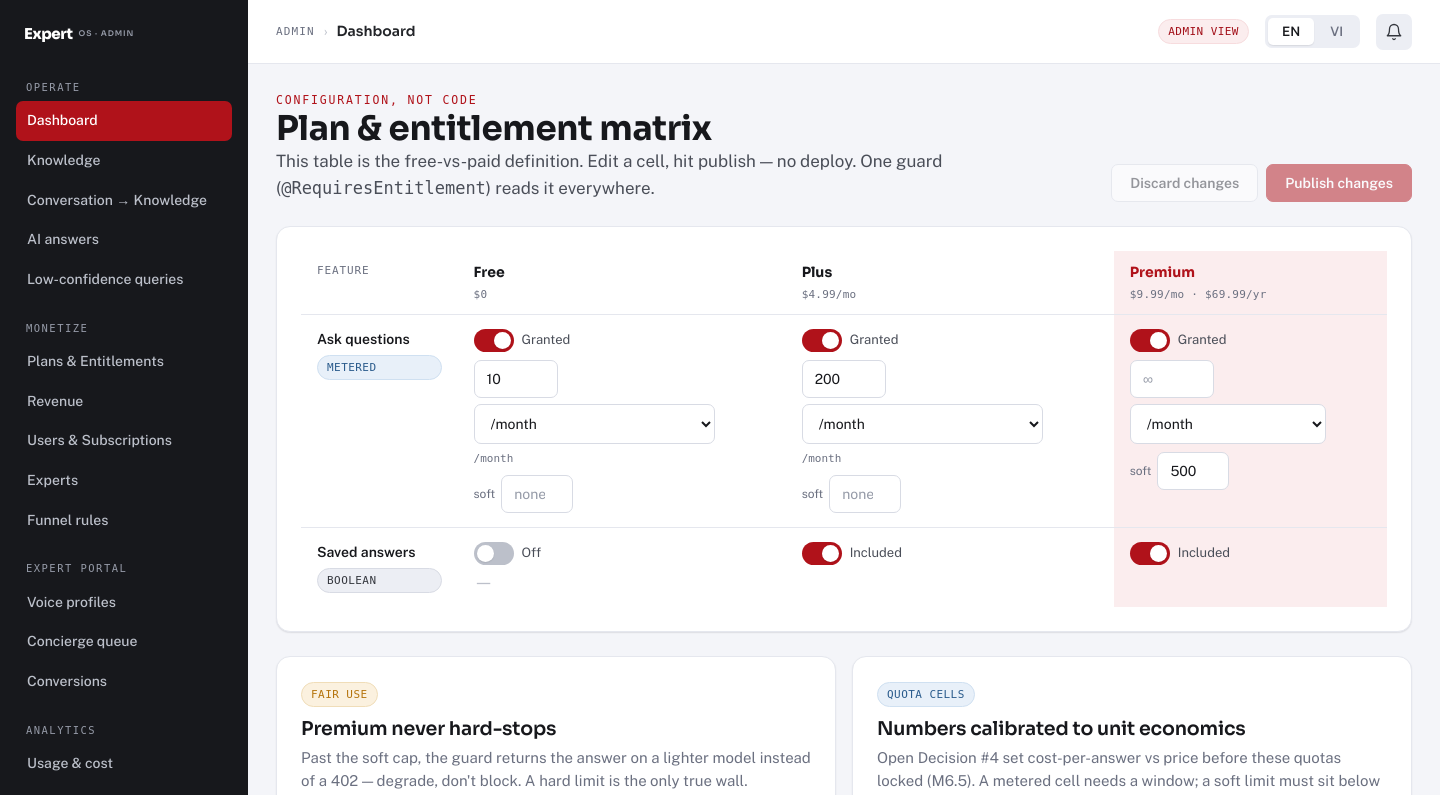
it: EntitlementsPage — staged publish › marks a toggled boolean cell dirty (Unsaved badge + Publish 1 change)
The width and height of the screenshot is (1440, 795).
Expected: the text "Ask questions" is shown, [317,331,410,347]
Click the checkbox labelled "Off": (507, 554) [474,542,541,565]
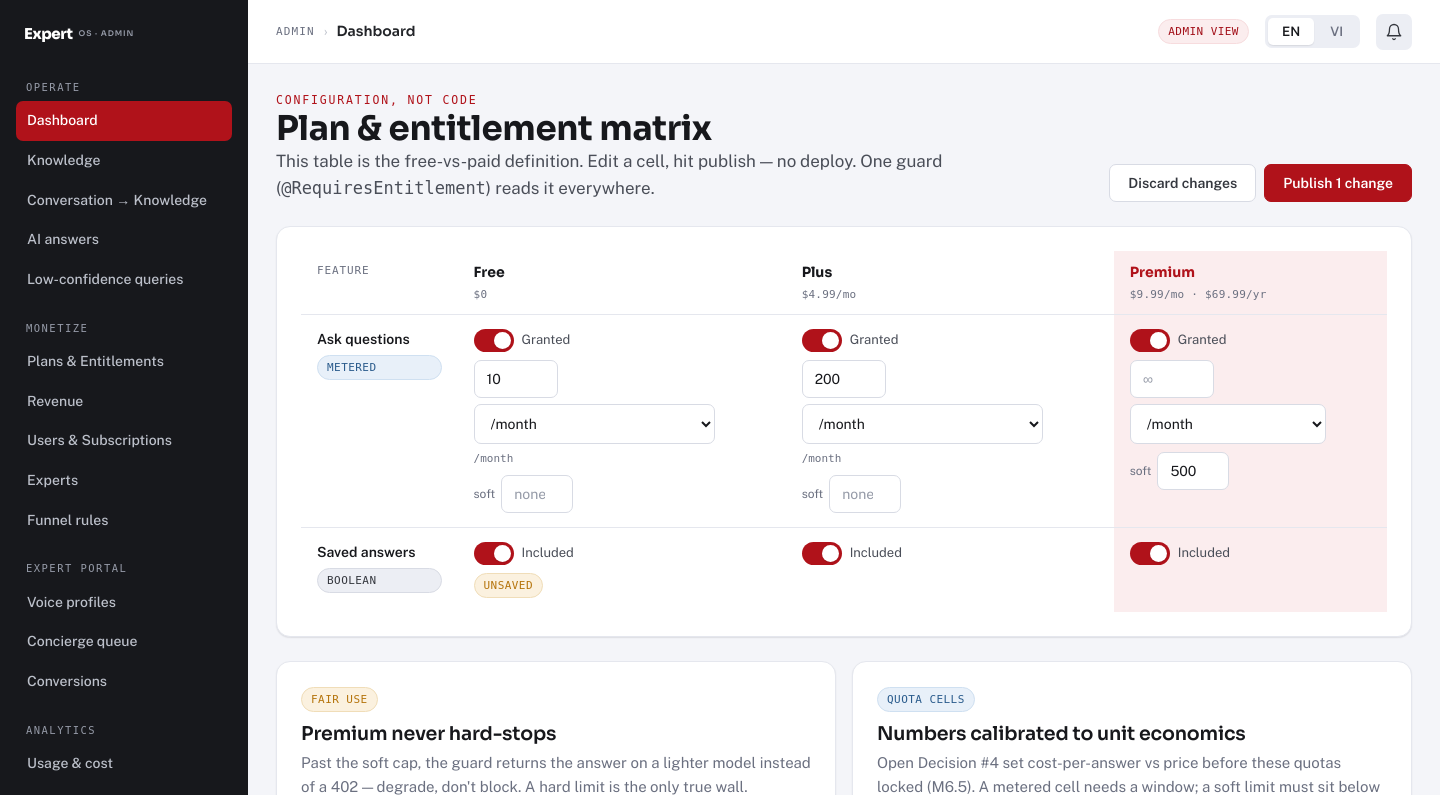
Expected: the text "Unsaved" is shown, [474,573,543,598]
Expected: the button "Publish 1 change" is enabled, [1264,164,1412,202]
